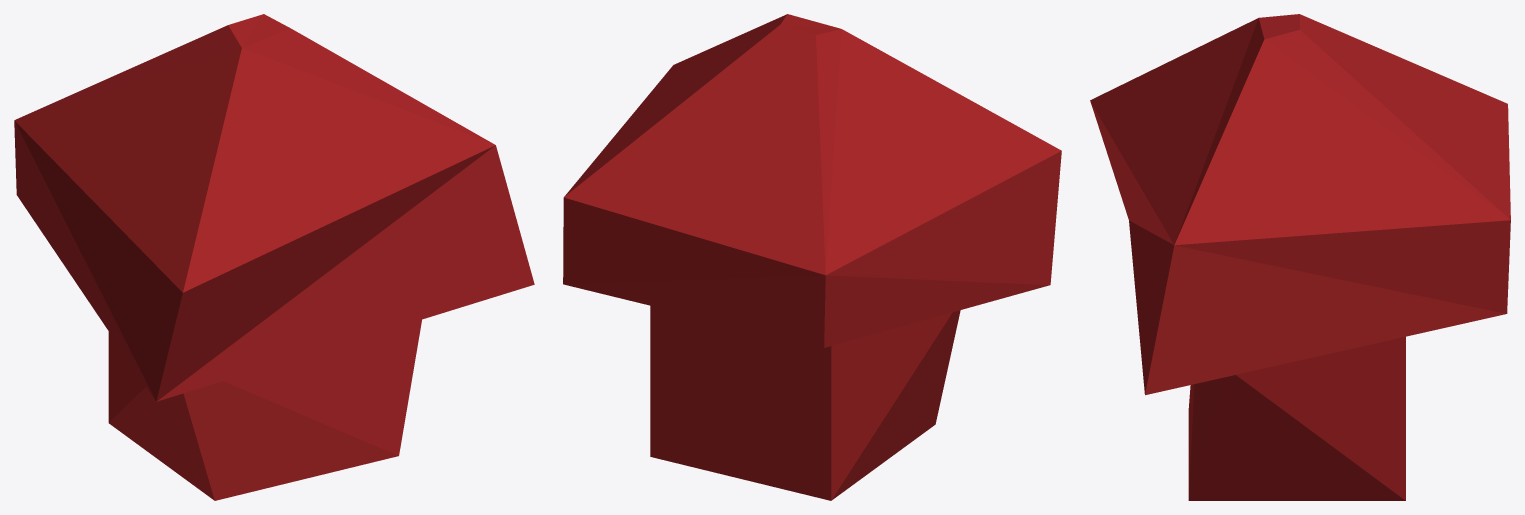
Rendered from polygonGeometry.obj.
3 renders of one model, left to right at view 1: azimuth 30°, elevation 25°; view 2: azimuth 150°, elevation 25°; view 3: azimuth 270°, elevation 25°, orthographic. The views are drawn at different scales.
Visible parts, largest first — view 1: Cube; view 2: Cube; view 3: Cube.
Part boxes in pixels (x1,y1,x2,y2): Cube: [14, 14, 534, 500]; Cube: [563, 14, 1061, 500]; Cube: [1090, 14, 1510, 500].
Size of the model in its own units: 4.19 by 4.38 by 3.88.
